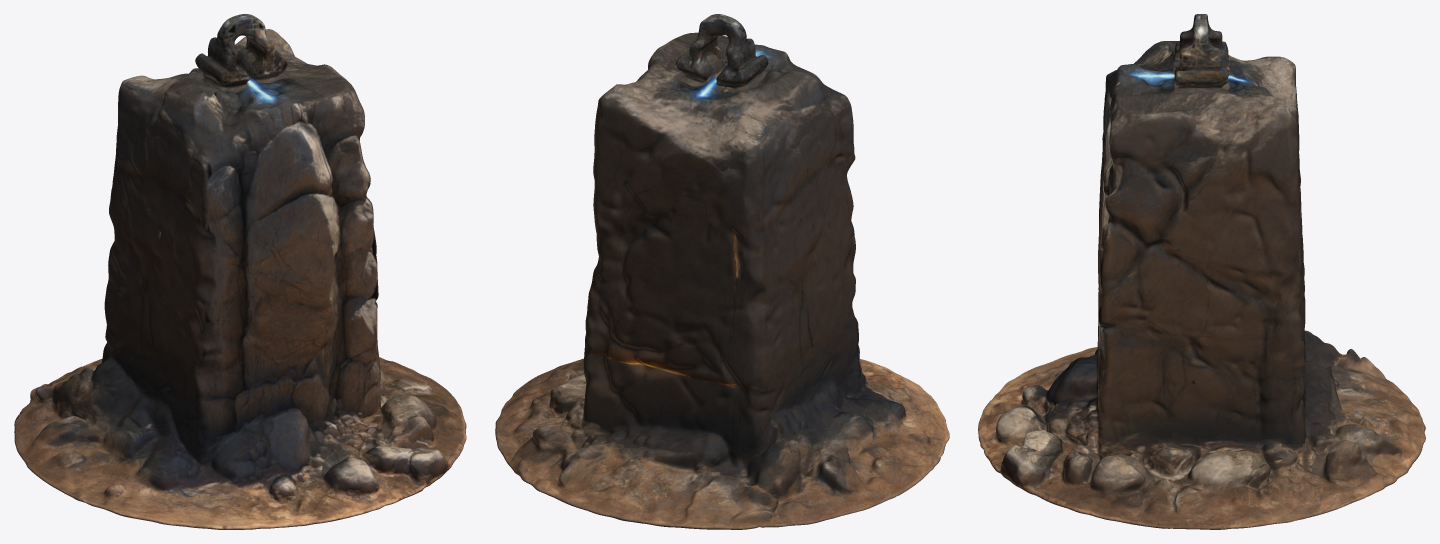
Rendered from earth-tower.glb.
3 renders of one model, left to right at view 1: azimuth 30°, elevation 25°; view 2: azimuth 150°, elevation 25°; view 3: azimuth 270°, elevation 25°, orthographic.
Visible parts, largest first — view 1: Mesh_0; view 2: Mesh_0; view 3: Mesh_0.
Boxes of the visible parts, <box> form: Mesh_0: <box>14,14,466,529</box>; Mesh_0: <box>495,14,949,529</box>; Mesh_0: <box>978,14,1425,529</box>.
Bounding box in the file's own units: 1.97 × 2 × 1.94.
Materials: 1 (1 with a texture image).
